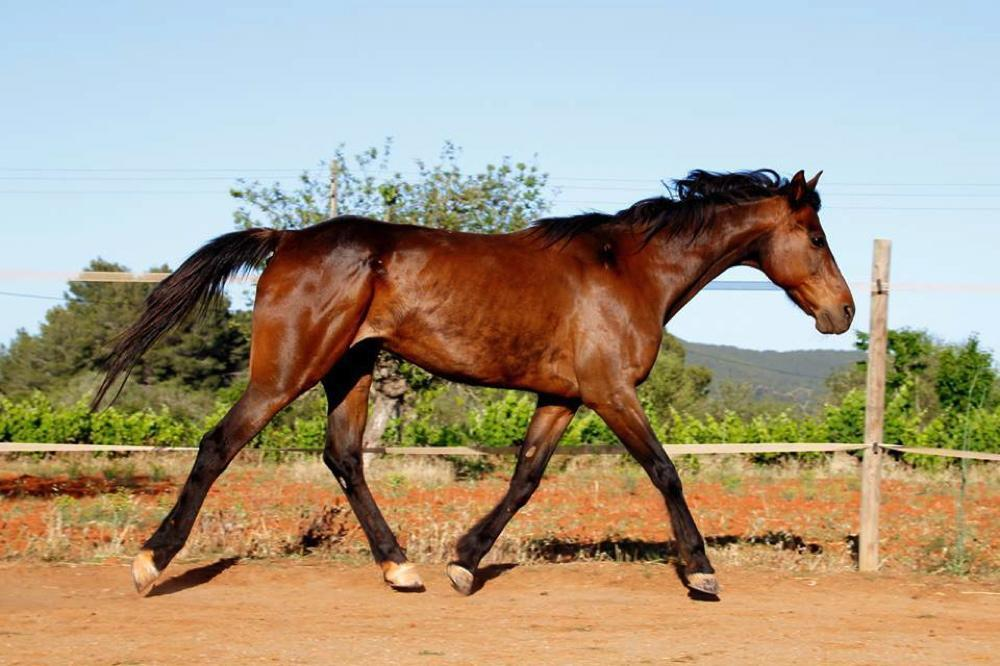horse: (82, 150, 865, 611)
